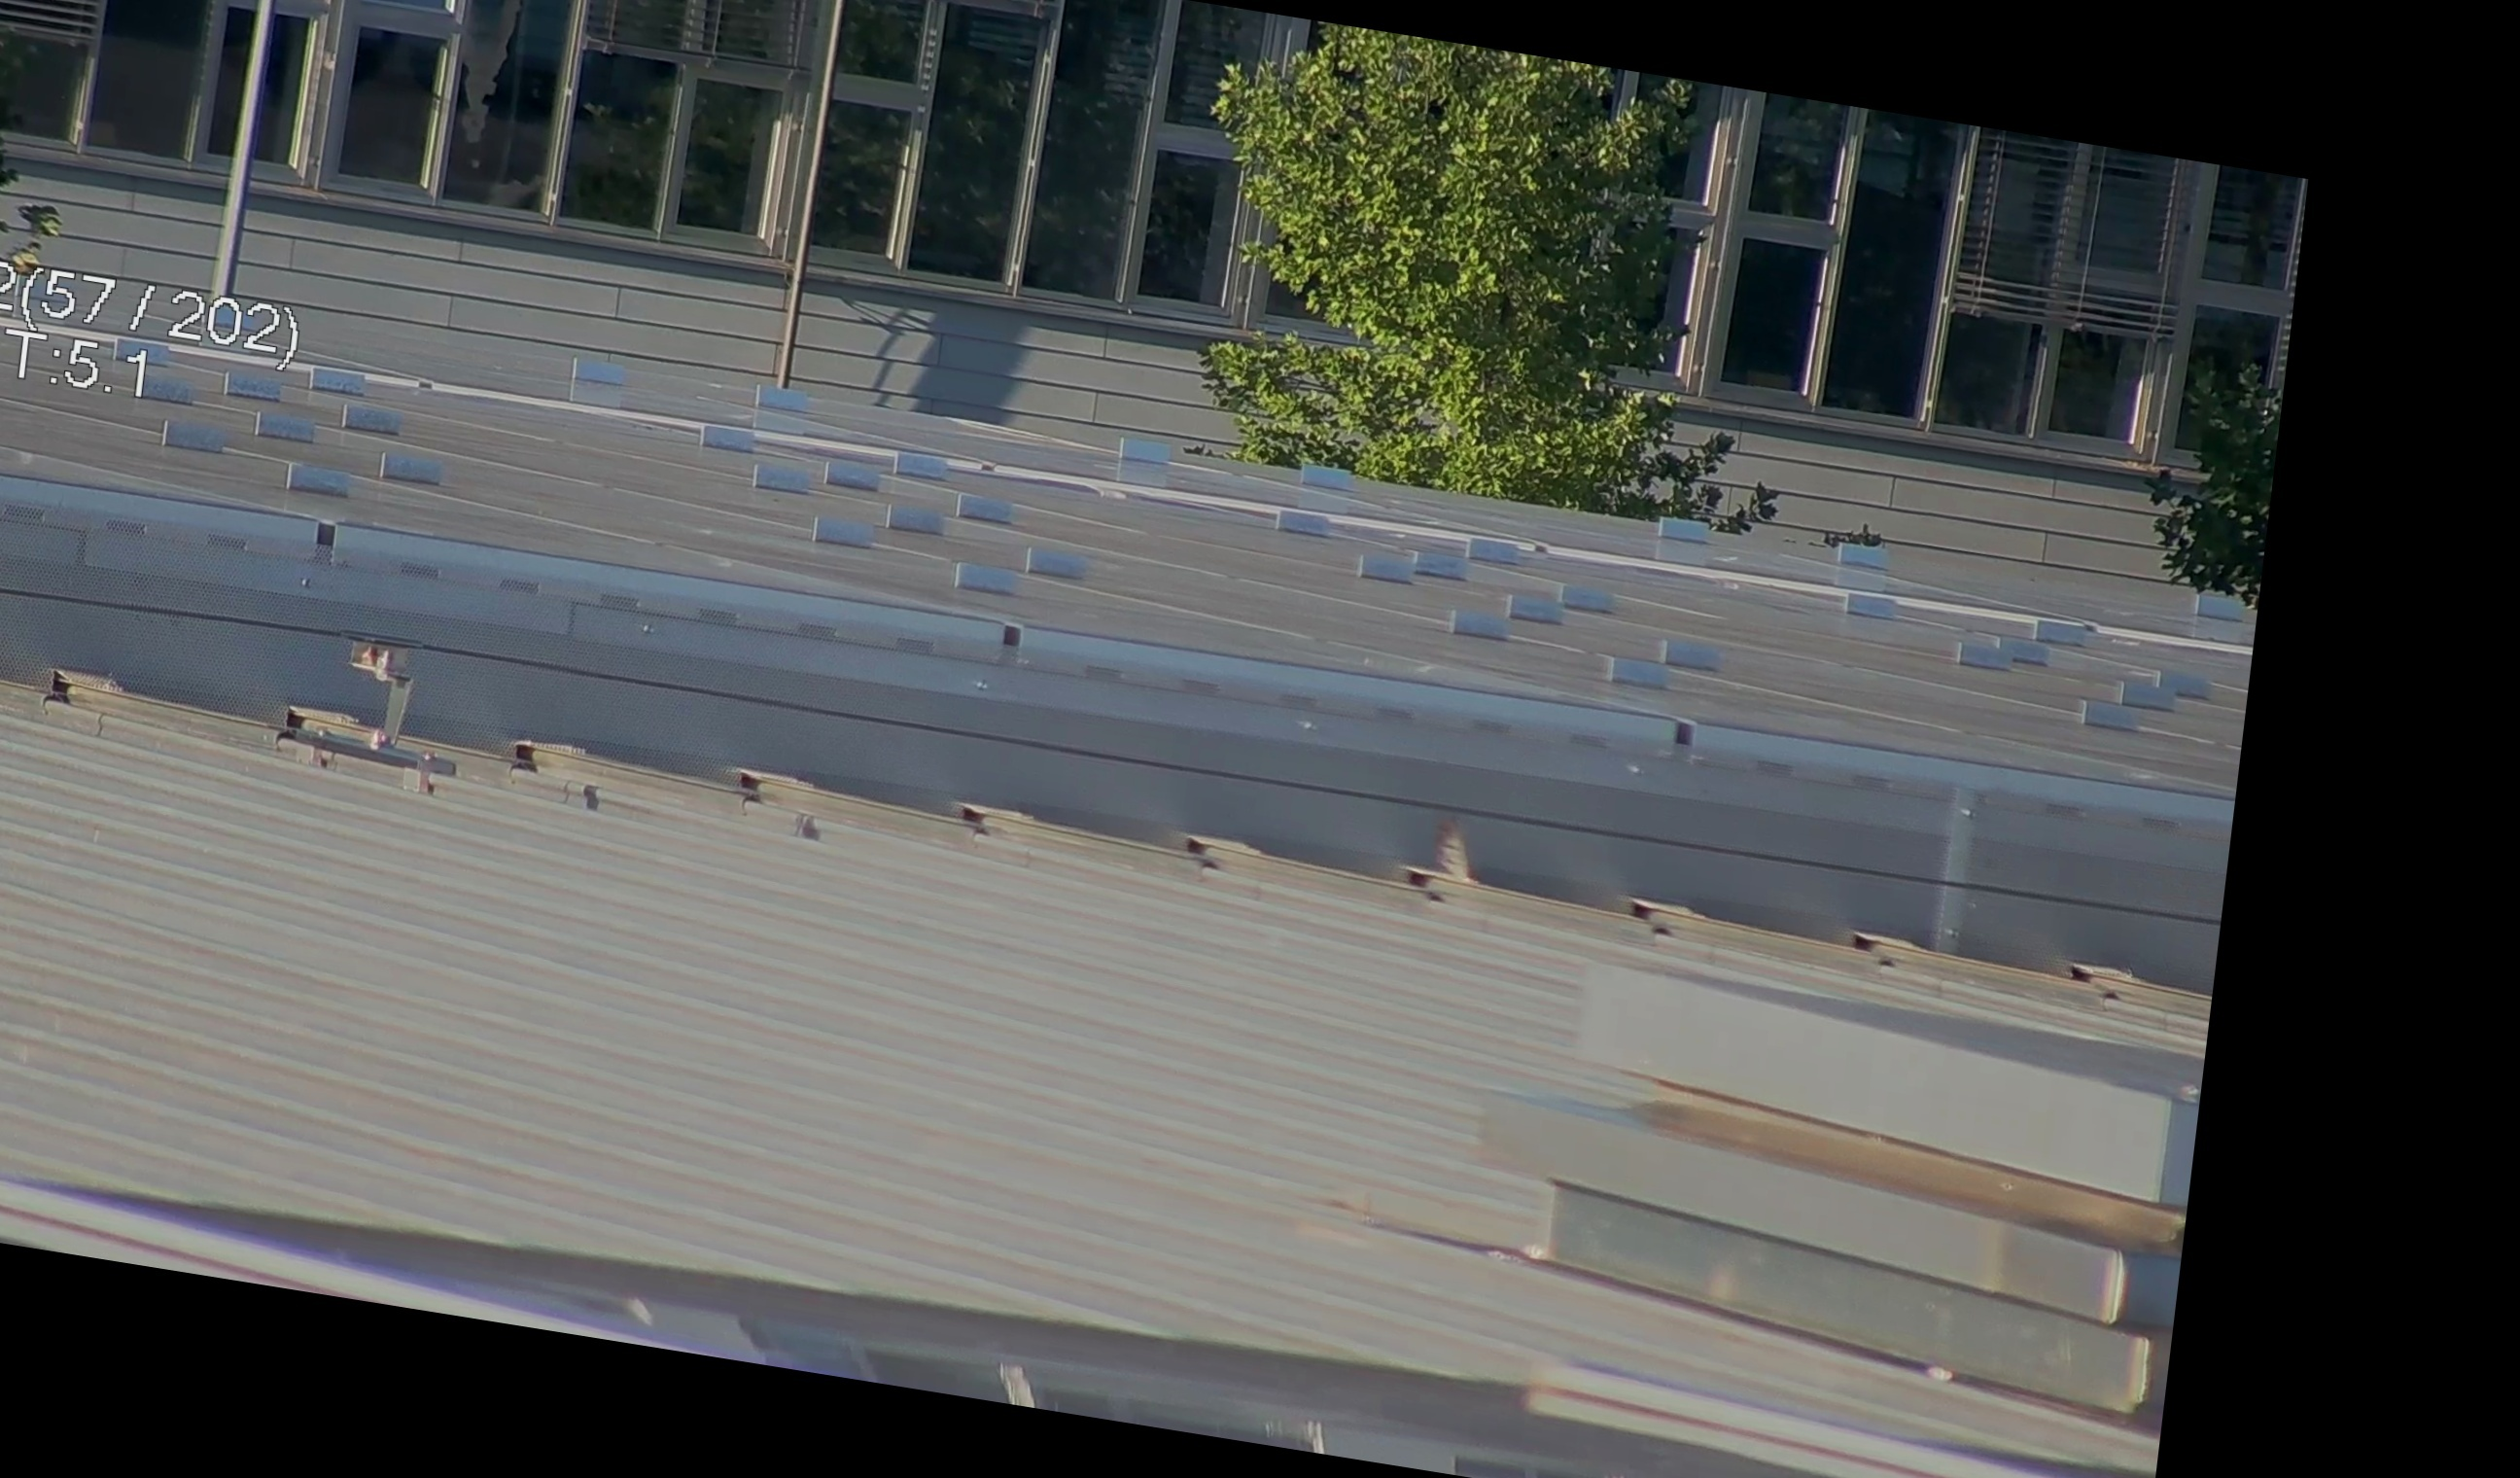Other: (1403, 801, 1502, 918)
